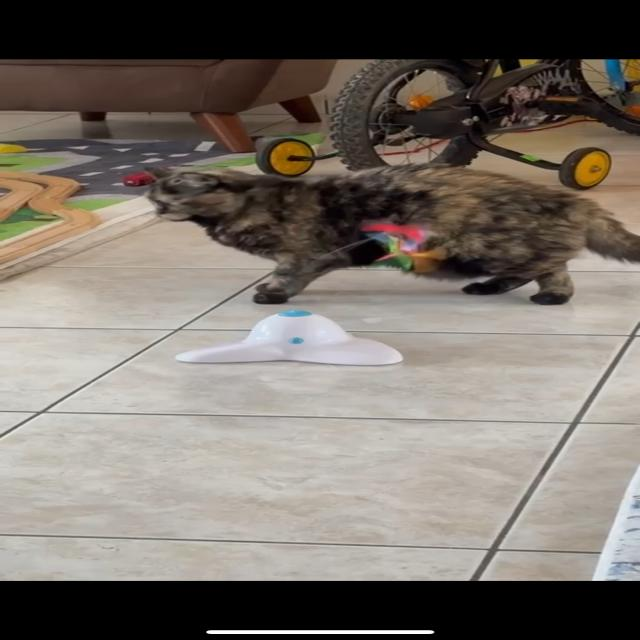authorized: (141, 161, 639, 306)
